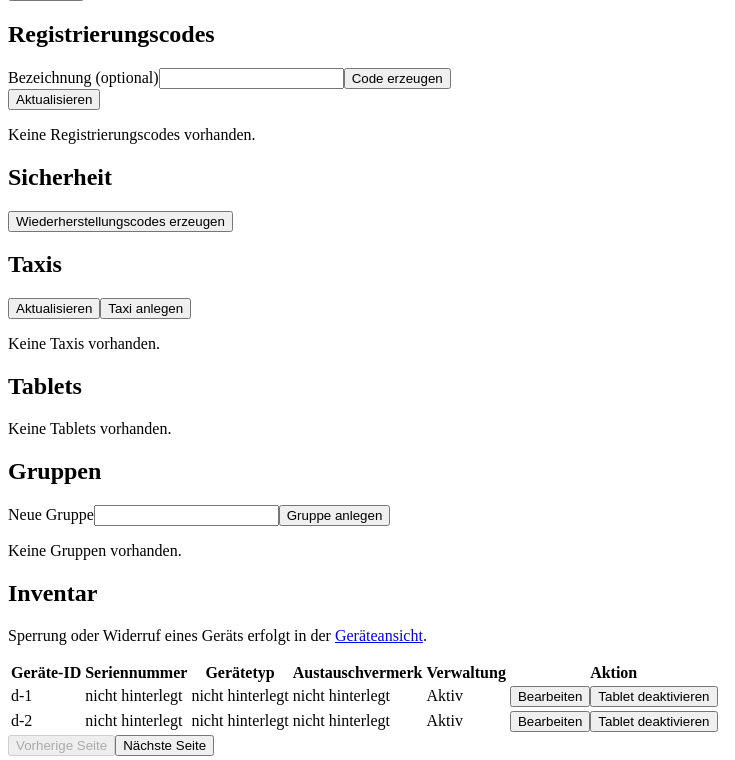
Test case: CX-142 Inventarliste › wechselt über den after-Cursor und zeigt keine vermischten Seiten
The image size is (735, 760).
(page scrolled)
expect the text "d-1" is shown: met, box [10,685,82,708]
Click the button "Nächste Seite".
click(165, 745)  # box [115,735,214,756]
(page scrolled)
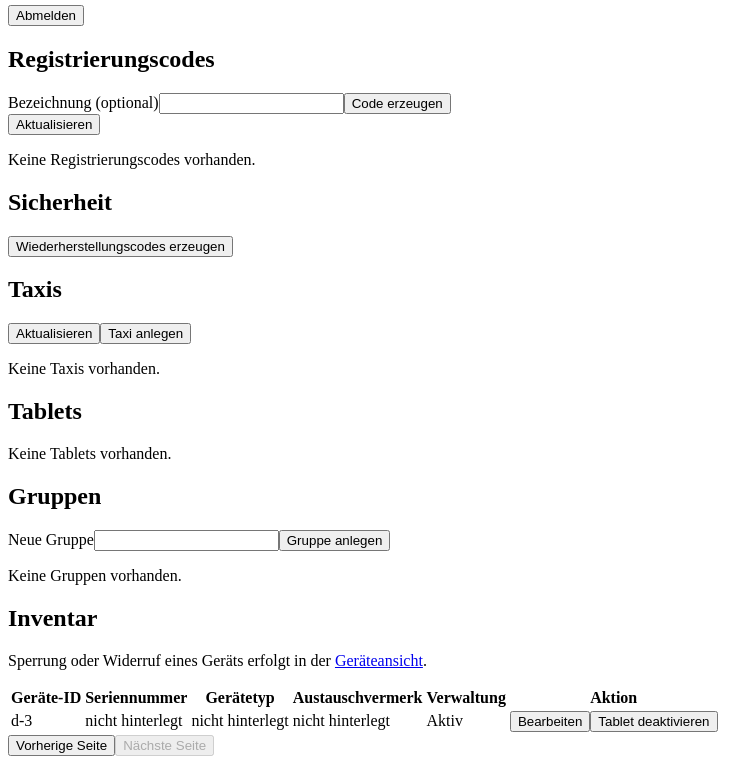
expect the text "d-3" is shown: met, box [10,710,82,733]
expect the text "d-1" is gone: met
expect the text "d-2" is gone: met
Click the button "Vorherige Seite".
click(62, 745)  # box [8,735,115,756]
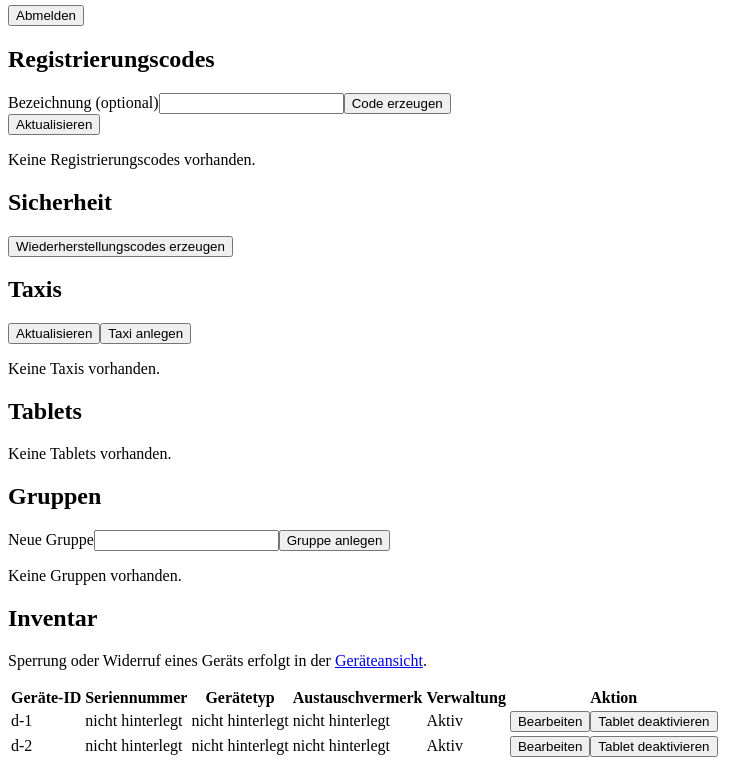
expect the text "d-1" is shown: met, box [10,710,82,733]
expect the text "d-3" is gone: met
